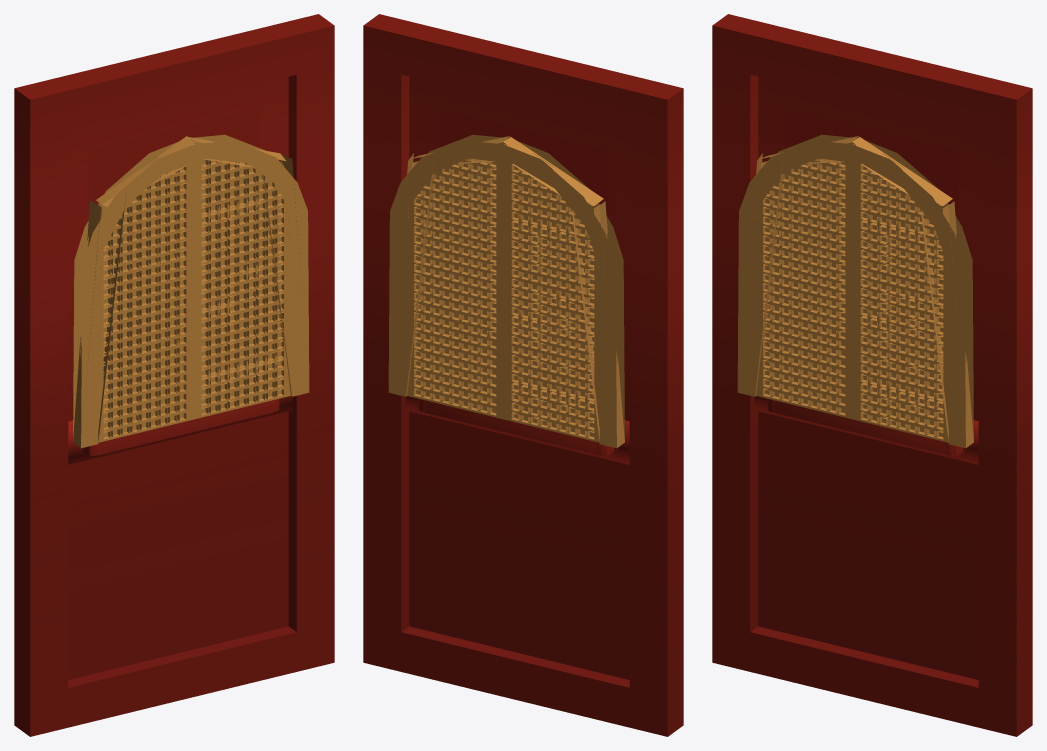
The model's file is jianghai_lattice_door.glb.
The picture shows the model from 3 angles, left to right: view 1: azimuth 30°, elevation 25°; view 2: azimuth 150°, elevation 25°; view 3: azimuth 330°, elevation 25°; orthographic projection.
Parts seen in each view (by area): view 1: DoorLeafAuthoredKenneyBase, AuthoredTempleLatticeFront; view 2: DoorLeafAuthoredKenneyBase, AuthoredTempleLatticeBack; view 3: DoorLeafAuthoredKenneyBase, AuthoredTempleLatticeFront.
Boxes of the visible parts, x1,y1,x2,y2 form: DoorLeafAuthoredKenneyBase: [14, 14, 334, 736]; AuthoredTempleLatticeFront: [73, 134, 309, 448]; DoorLeafAuthoredKenneyBase: [363, 14, 683, 736]; AuthoredTempleLatticeBack: [388, 134, 624, 448]; DoorLeafAuthoredKenneyBase: [712, 14, 1032, 736]; AuthoredTempleLatticeFront: [737, 134, 973, 448].
Bounding box in the file's own units: 0.8 × 1.6 × 0.19.
Materials: 2 (1 with a texture image).
